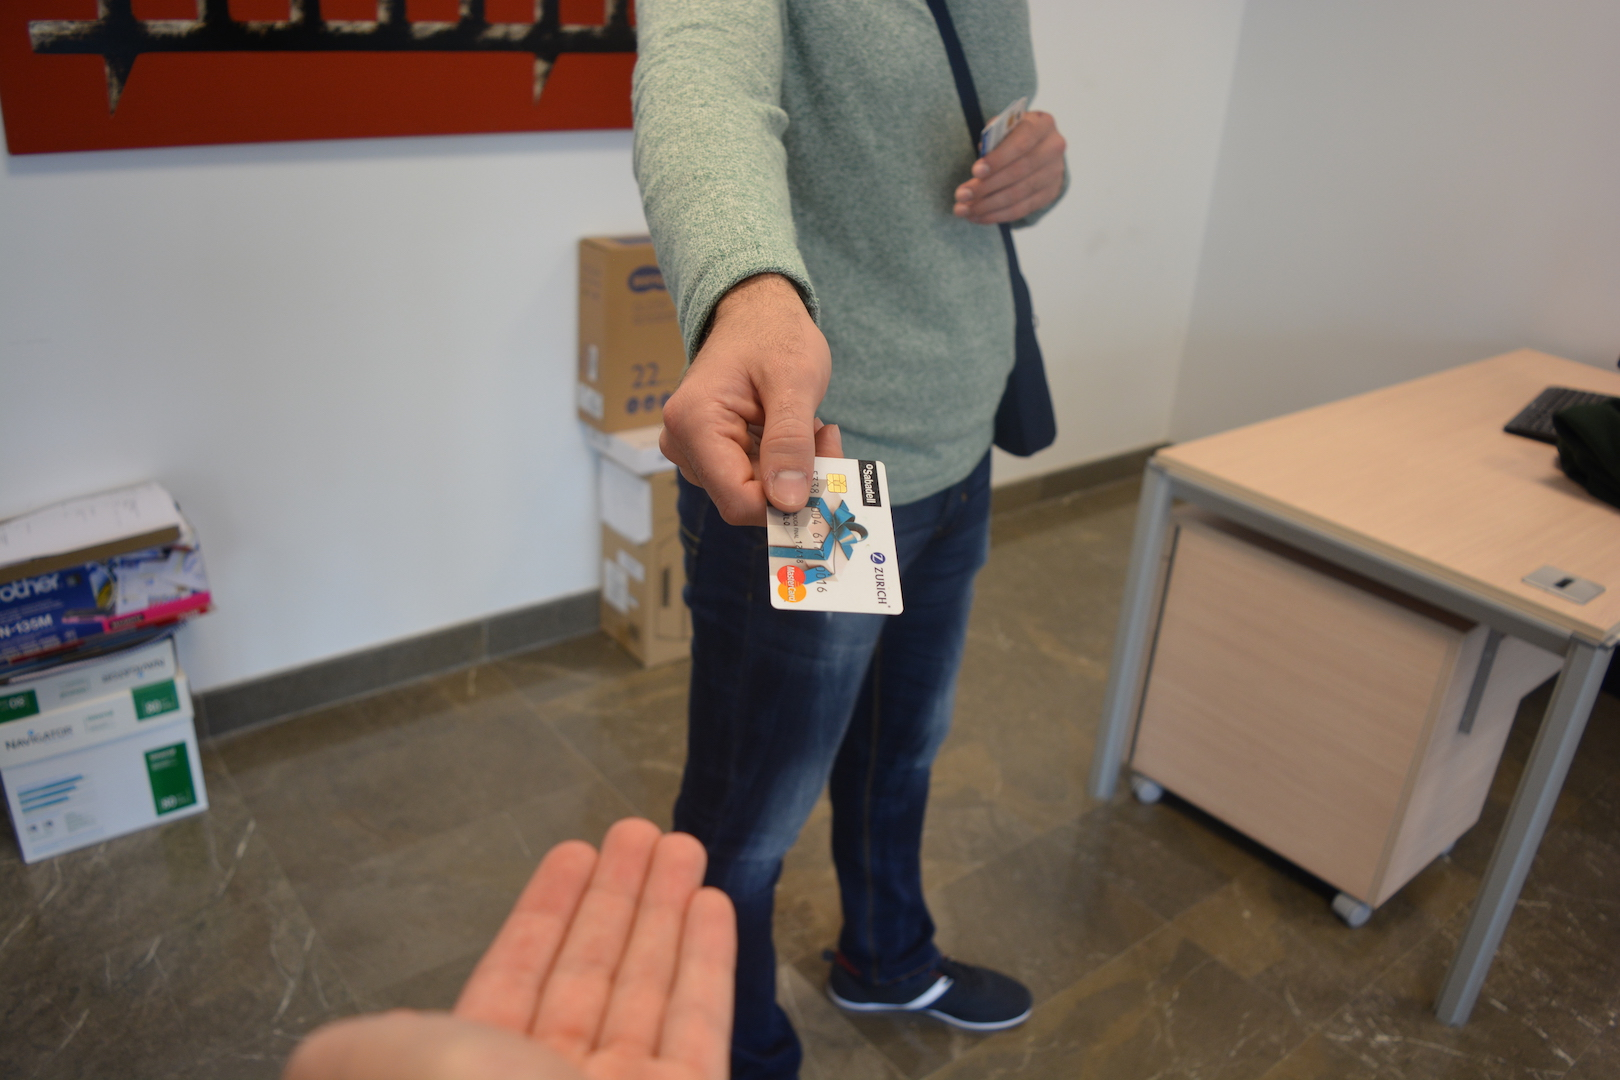tarjeta: (764, 453, 905, 618)
